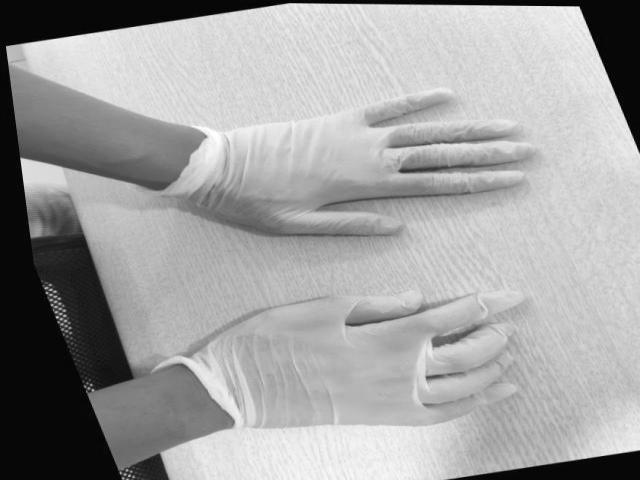gloved: (214, 87, 518, 239), (234, 292, 522, 428)
